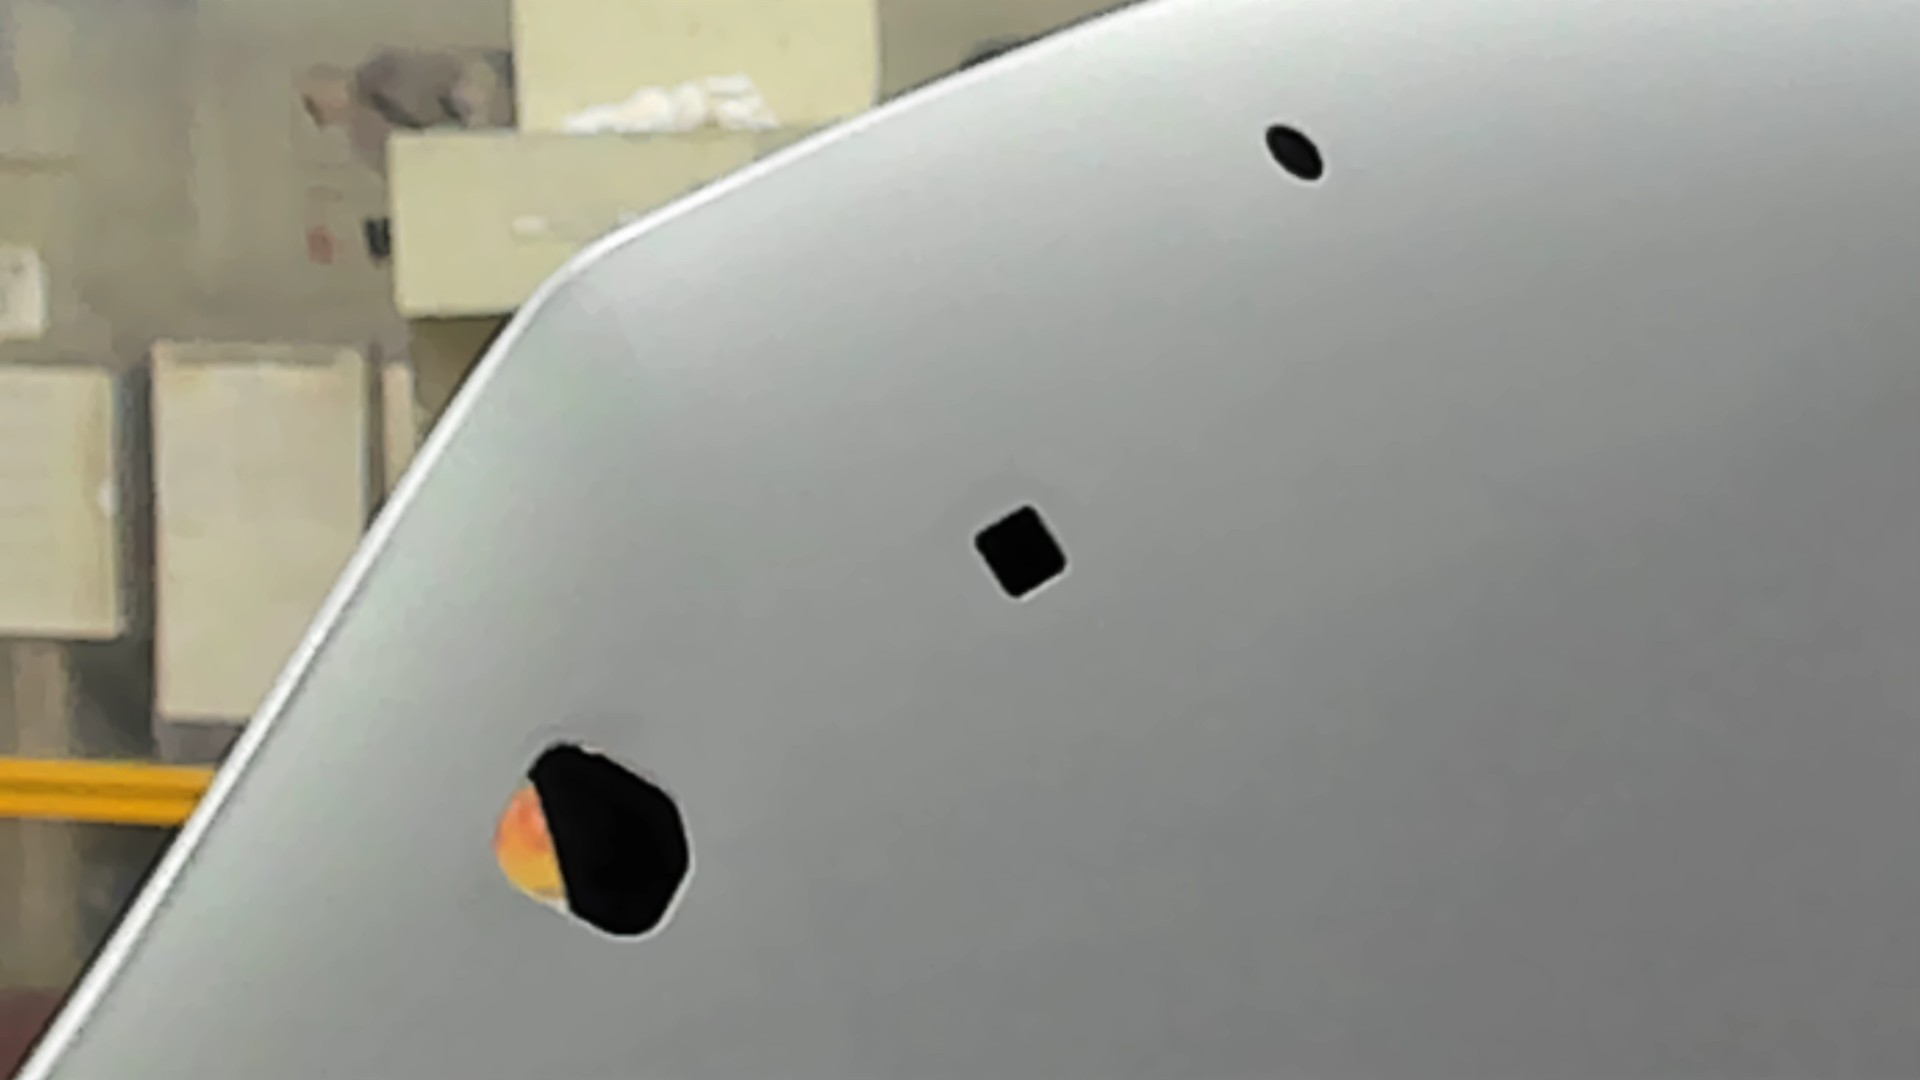chico: (1259, 119, 1328, 187)
grande: (483, 733, 700, 956)
mediano: (963, 496, 1076, 611)
